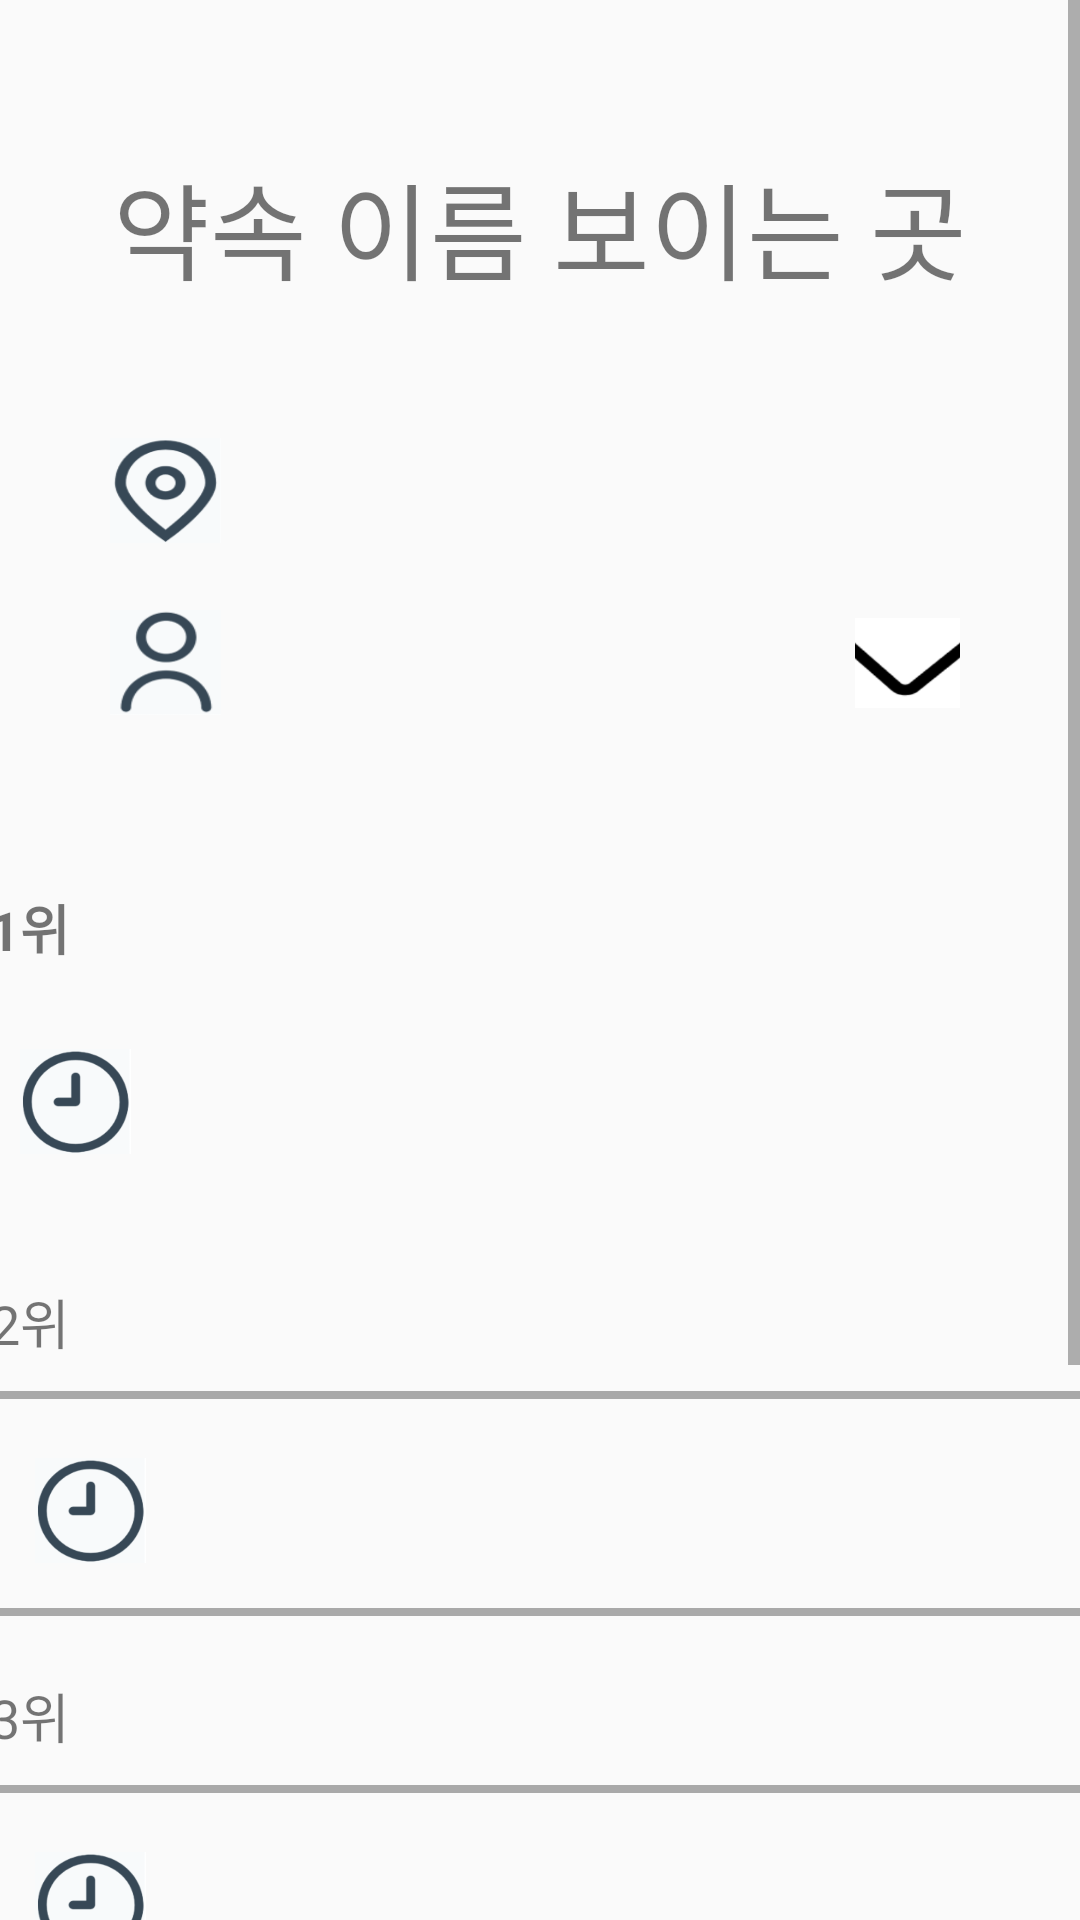

Icon click points for this 1080 × 1920 phone screenshot, format (x=x, y=y):
arrow: (x=907, y=669)
place: (x=165, y=491)
